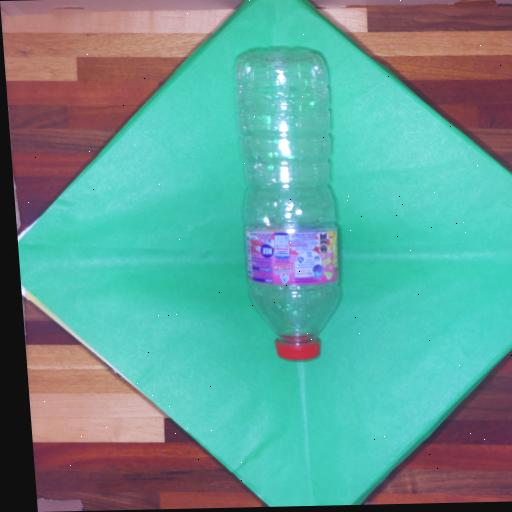bottle: (236, 50, 339, 359)
